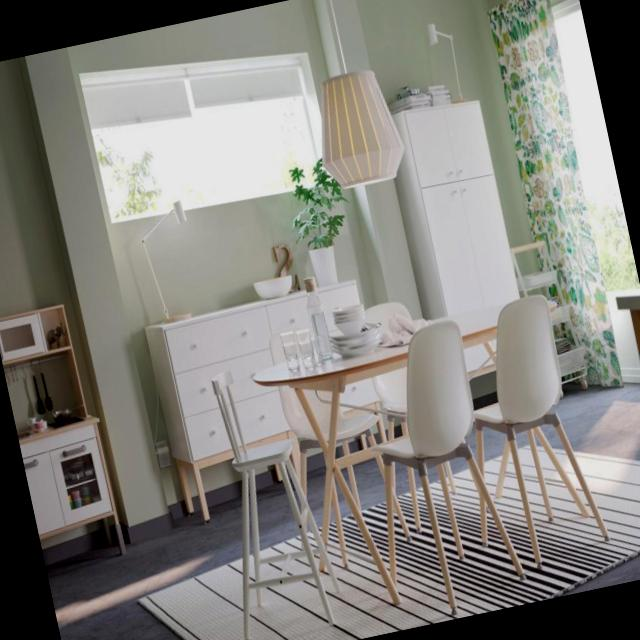obstacle: (190, 300, 615, 640), (0, 293, 135, 586), (606, 279, 640, 573)
